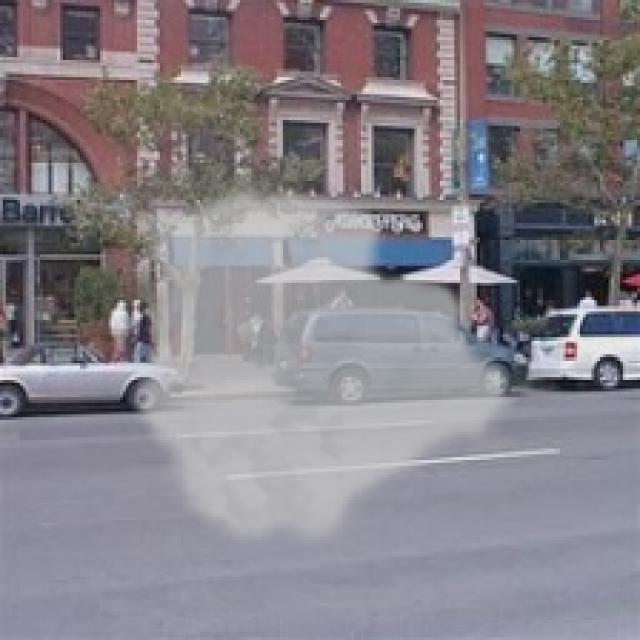Smoke: (131, 182, 523, 554)
